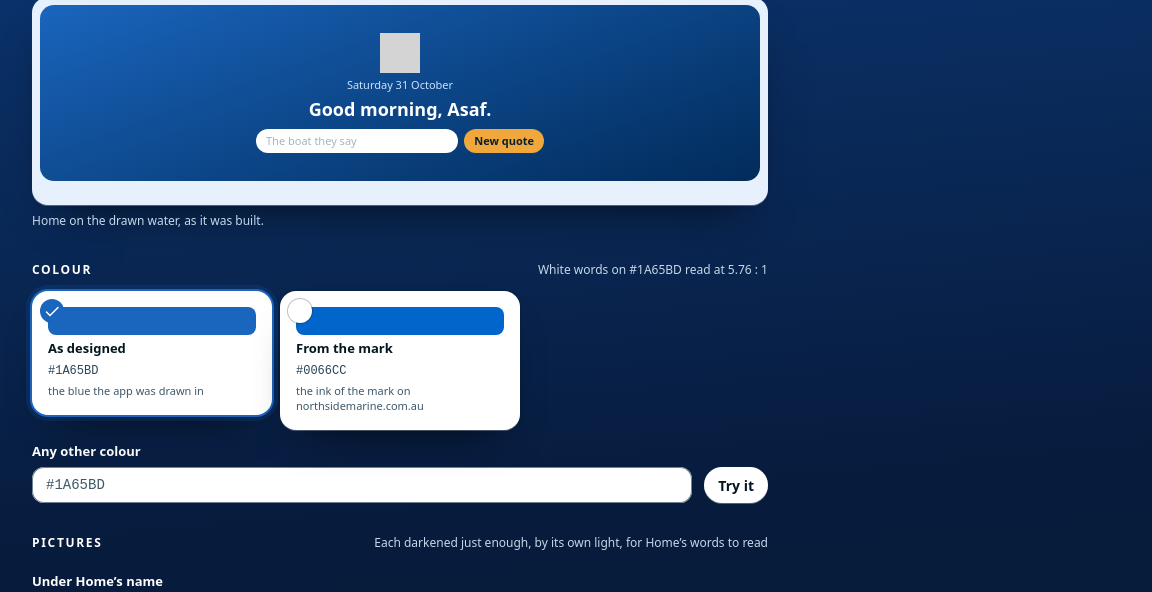
Scenario: colour, measured and tried before it is kept › shows the mark’s blue on the stage as changed, not kept, and keeps it in one press
(page scrolled)
Click the button with aria-label "From the mark, #0066CC".
click(400, 360)  # box [280, 291, 520, 430]
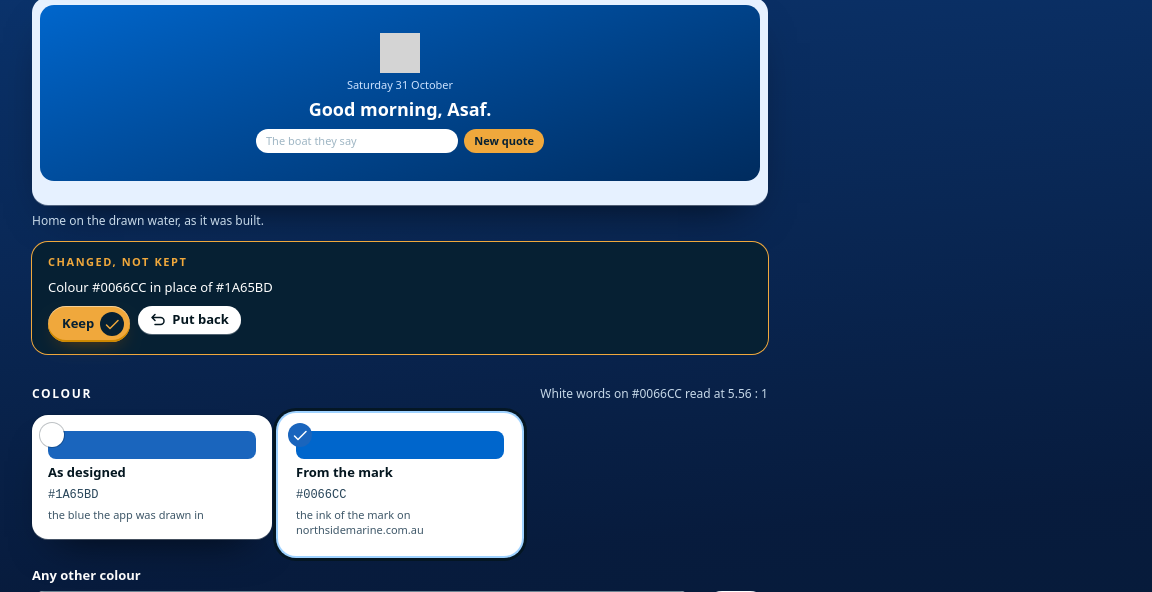
Expected: the element with test id "manage-staged" shows "Changed, not kept", [48, 254, 187, 269]
Expected: the element with test id "manage-staged" shows "Colour #0066CC in place of #1A65BD", [48, 278, 273, 296]
Click the button "Keep".
click(89, 324)  # box [48, 306, 130, 342]
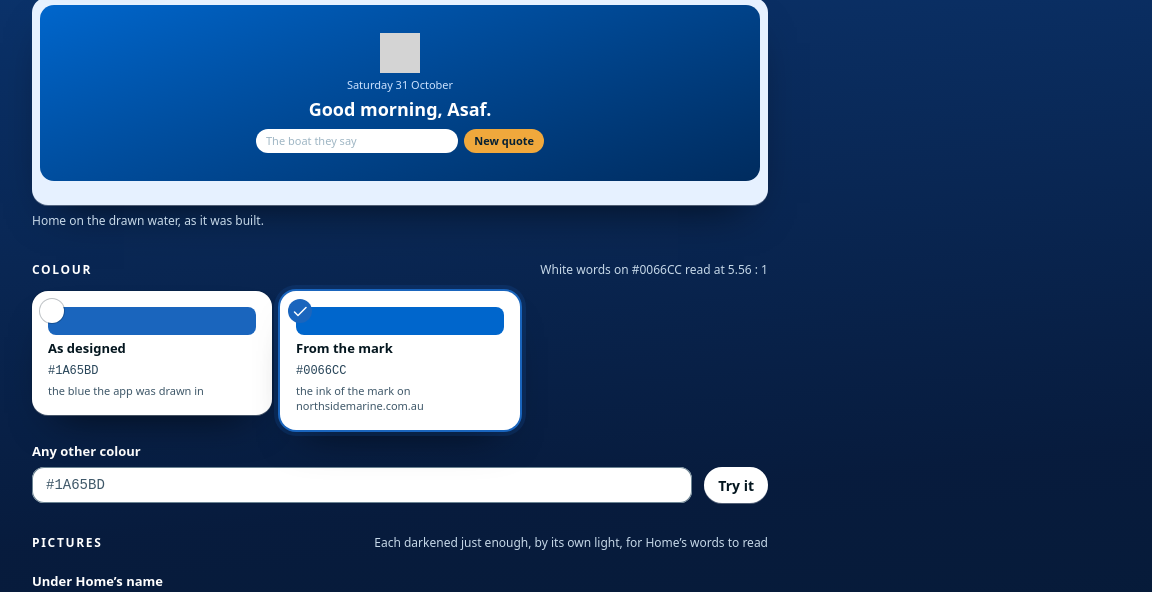
Expected: the element with test id "manage-staged" is gone
